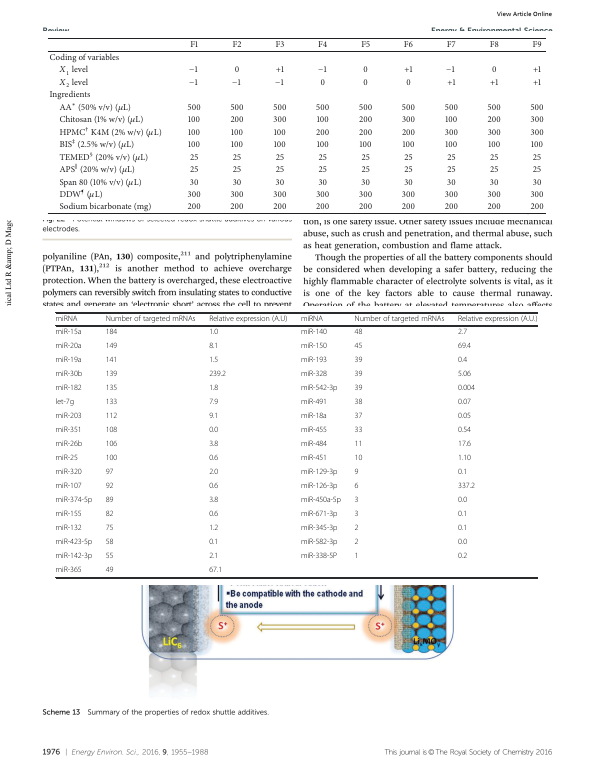borderless: (54, 311, 537, 577), (46, 36, 546, 213)
cell: (58, 123, 163, 140), (58, 149, 149, 165), (58, 112, 144, 127), (58, 174, 143, 189), (58, 161, 136, 177), (58, 136, 135, 152), (58, 99, 132, 115), (58, 202, 152, 213), (353, 315, 445, 324), (105, 315, 196, 324), (58, 186, 104, 202), (457, 315, 538, 324), (208, 315, 288, 324), (48, 53, 120, 63), (58, 74, 89, 91), (58, 62, 89, 78), (48, 90, 91, 101), (300, 496, 342, 506), (300, 384, 338, 394), (300, 468, 338, 478), (300, 482, 338, 492), (55, 496, 93, 506), (300, 510, 338, 520), (300, 524, 338, 534), (55, 538, 93, 548), (300, 538, 338, 548), (55, 552, 93, 562), (300, 552, 338, 562), (300, 328, 328, 338), (300, 342, 328, 352), (300, 356, 328, 366), (55, 370, 83, 380), (300, 370, 328, 380), (300, 398, 328, 408), (300, 412, 328, 422), (300, 426, 328, 436), (55, 440, 83, 450), (300, 440, 328, 450), (300, 454, 328, 464), (55, 328, 82, 338), (55, 342, 82, 352), (55, 356, 82, 366), (55, 384, 82, 394), (55, 412, 82, 422), (55, 426, 82, 436), (55, 468, 82, 478), (55, 482, 82, 492), (55, 510, 82, 520), (55, 524, 82, 534), (55, 566, 82, 576), (55, 454, 79, 464), (300, 315, 324, 324), (55, 315, 78, 324), (55, 398, 75, 408), (188, 74, 200, 90), (231, 74, 243, 90), (274, 74, 286, 90), (208, 370, 227, 380), (457, 384, 476, 394), (457, 482, 476, 492), (188, 62, 200, 77), (317, 62, 329, 77), (229, 115, 245, 126), (229, 202, 245, 213), (446, 62, 457, 77), (272, 115, 287, 126), (358, 115, 373, 126), (401, 115, 416, 126), (487, 115, 502, 126), (530, 115, 545, 126), (315, 127, 330, 138), (358, 127, 373, 138), (401, 127, 416, 138), (444, 127, 459, 138), (487, 127, 502, 138), (530, 127, 545, 138), (187, 202, 202, 213), (272, 202, 287, 213), (315, 202, 330, 213), (358, 202, 373, 213), (401, 202, 416, 213), (444, 202, 459, 213), (487, 202, 502, 213), (530, 202, 545, 213), (229, 103, 245, 113), (229, 190, 245, 200), (187, 115, 201, 126), (316, 115, 330, 126), (444, 115, 458, 126), (187, 127, 201, 138), (230, 127, 244, 138), (273, 127, 287, 138), (187, 140, 201, 151), (230, 140, 244, 151), (273, 140, 287, 151), (316, 140, 330, 151), (359, 140, 373, 151), (401, 140, 415, 151), (444, 140, 458, 151), (487, 140, 501, 151), (530, 140, 544, 151), (457, 342, 472, 352), (457, 370, 472, 380), (457, 398, 472, 408), (457, 412, 472, 422), (457, 426, 472, 436), (457, 440, 472, 450), (457, 454, 472, 464), (208, 566, 223, 576), (187, 103, 202, 113), (272, 103, 287, 113), (315, 103, 330, 113), (358, 103, 373, 113), (401, 103, 416, 113), (444, 103, 459, 113), (487, 103, 502, 113), (530, 103, 545, 113), (187, 190, 202, 200), (272, 190, 287, 200), (315, 190, 330, 200), (358, 190, 373, 200), (401, 190, 416, 200), (444, 190, 459, 200), (487, 190, 502, 200), (530, 190, 545, 200), (105, 328, 118, 338), (105, 342, 118, 352), (105, 356, 118, 366), (105, 370, 118, 380), (105, 384, 118, 394), (105, 398, 118, 408), (105, 412, 118, 422), (105, 426, 118, 436), (105, 440, 118, 450), (105, 454, 118, 464), (274, 40, 285, 51), (317, 40, 328, 51), (360, 40, 371, 51), (403, 40, 414, 51), (446, 40, 457, 51), (489, 40, 500, 51), (532, 40, 543, 51), (403, 65, 414, 76), (360, 152, 371, 163), (403, 152, 414, 163), (446, 152, 457, 163), (317, 177, 328, 188), (360, 177, 371, 188), (403, 177, 414, 188), (446, 177, 457, 188), (208, 328, 219, 338), (457, 328, 468, 338), (208, 342, 219, 352), (208, 356, 219, 366), (457, 356, 468, 366), (208, 384, 219, 394), (208, 398, 219, 408), (208, 412, 219, 422), (208, 426, 219, 436), (208, 440, 219, 450), (208, 454, 219, 464), (208, 468, 219, 478), (457, 468, 468, 478), (208, 482, 219, 492), (208, 496, 219, 506), (457, 496, 468, 506), (208, 510, 219, 520), (457, 510, 468, 520), (208, 524, 219, 534), (457, 524, 468, 534), (208, 538, 219, 548), (457, 538, 468, 548), (208, 552, 219, 562), (457, 552, 468, 562), (189, 40, 199, 51), (232, 40, 242, 51), (275, 65, 285, 76), (532, 65, 542, 76), (189, 152, 199, 163), (232, 152, 242, 163), (275, 152, 285, 163), (318, 152, 328, 163), (489, 152, 499, 163), (532, 152, 542, 163), (360, 165, 371, 175), (403, 165, 414, 175), (446, 165, 457, 175), (189, 177, 199, 188), (232, 177, 242, 188), (275, 177, 285, 188), (489, 177, 499, 188), (532, 177, 542, 188), (353, 328, 363, 338), (353, 342, 363, 352), (353, 356, 363, 366), (353, 370, 363, 380), (353, 384, 363, 394), (353, 398, 363, 408), (353, 412, 363, 422), (353, 426, 363, 436), (353, 440, 363, 450), (353, 454, 363, 464), (446, 78, 456, 88), (489, 78, 499, 88), (532, 78, 542, 88), (189, 165, 199, 175), (232, 165, 242, 175), (275, 165, 285, 175), (318, 165, 328, 175), (489, 165, 499, 175), (532, 165, 542, 175), (105, 468, 114, 478), (105, 482, 114, 492), (105, 496, 114, 506), (105, 510, 114, 520), (105, 524, 114, 534), (105, 538, 114, 548), (105, 552, 114, 562), (105, 566, 114, 576), (362, 65, 369, 76), (362, 78, 369, 88), (405, 78, 412, 88), (234, 65, 240, 76), (491, 65, 497, 76), (353, 468, 359, 478), (353, 482, 359, 492), (353, 496, 359, 506), (353, 510, 359, 520), (353, 524, 359, 534), (353, 538, 359, 548), (353, 552, 359, 562), (320, 78, 326, 88)
